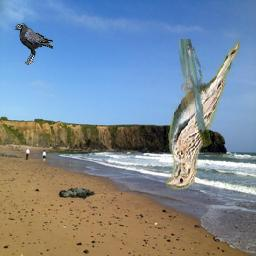Crow: (15, 23, 53, 65)
Sparrow: (166, 40, 240, 191)
